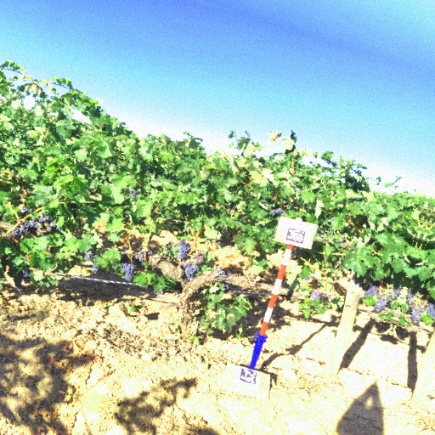QR: (283, 225, 308, 247), (237, 366, 260, 386)
